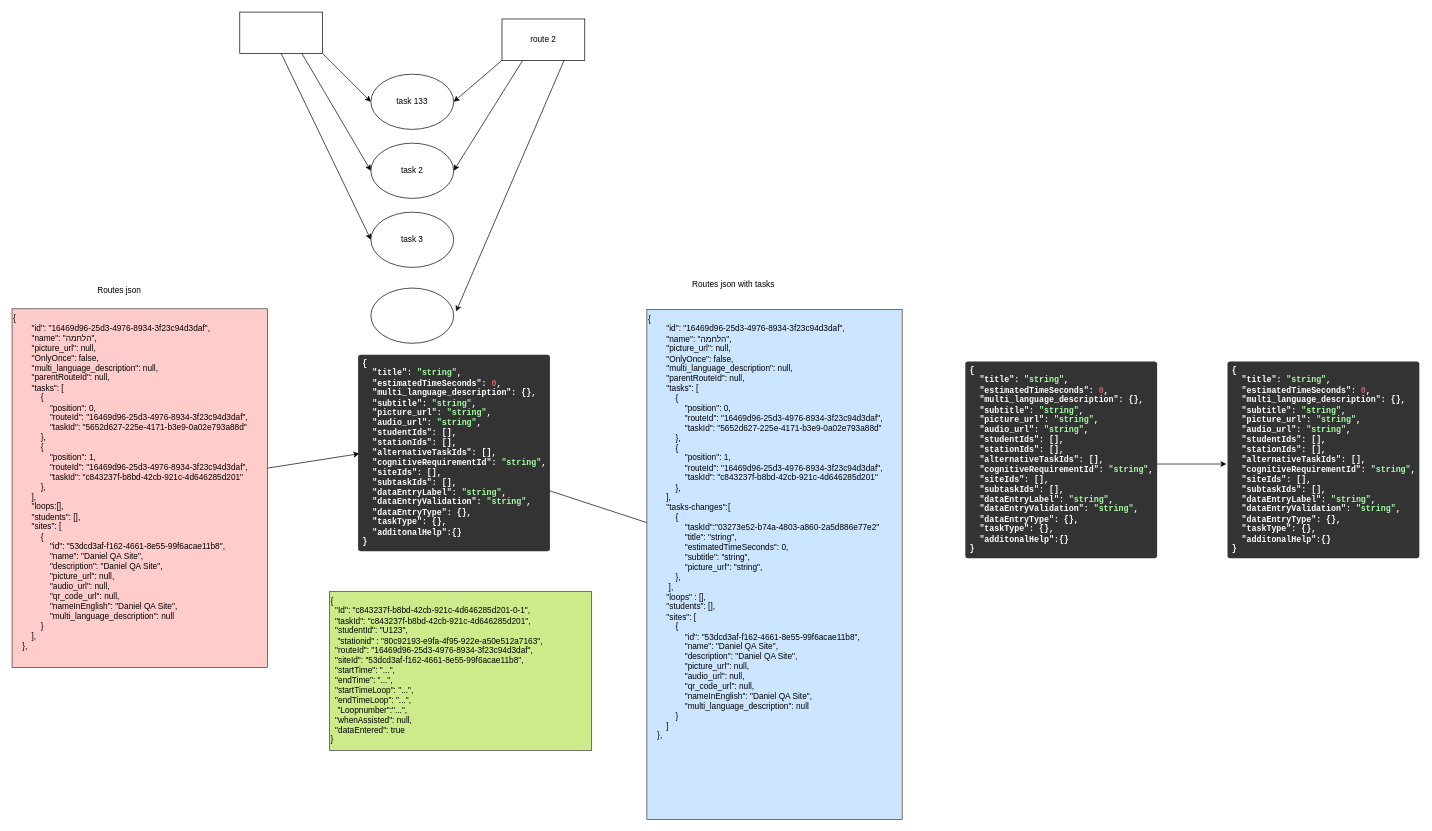
Some shapes in this 1432 by 831 pixel diagram are drawn without their labels. The shapes that lost their labels are listed below. From the top down, each one's box as (x1, y1, x2, y2) in pixels, then its label:
(239, 11, 323, 53): route
(370, 287, 454, 343): task 4
